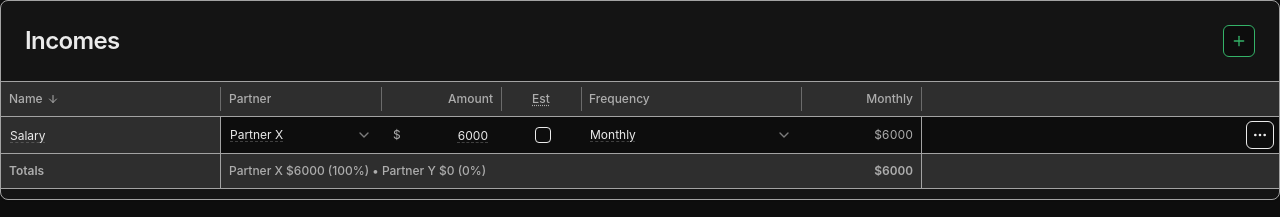
Test case: IncomesTab averaged rows › rolls back the edited name when an async income save fails
This screenshot has width=1280, height=217.
Later steps or results of the test are not shown.
Press the mouse on the 1st field at (111, 135), box top-left (5, 121), bottom-right (217, 149)
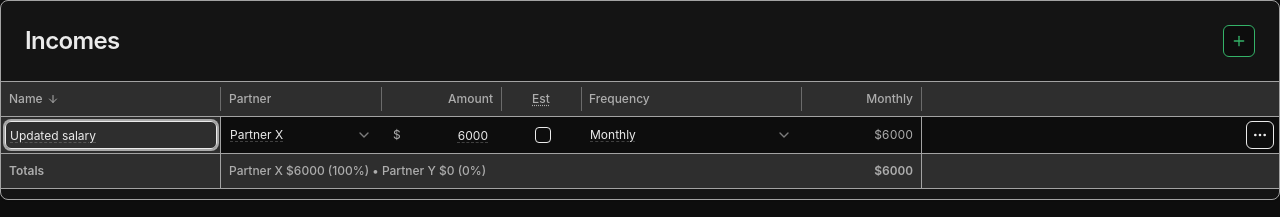
Expected: the 1st field has attribute data-grid-editing="true", top-left (5, 121), bottom-right (217, 149)
